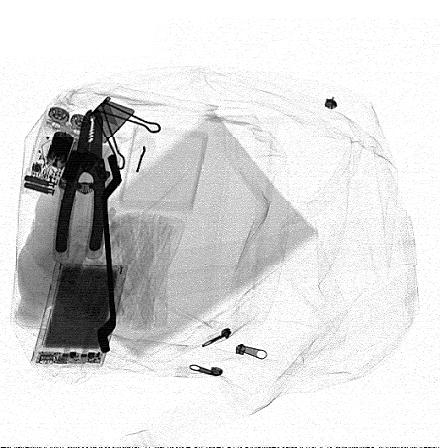Pliers: (54, 109, 106, 253)
Powerbank: (30, 261, 129, 368)
Wrench: (97, 152, 124, 353)
